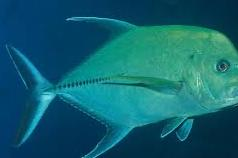Carangidae -Jacks-: (0, 3, 238, 158)
